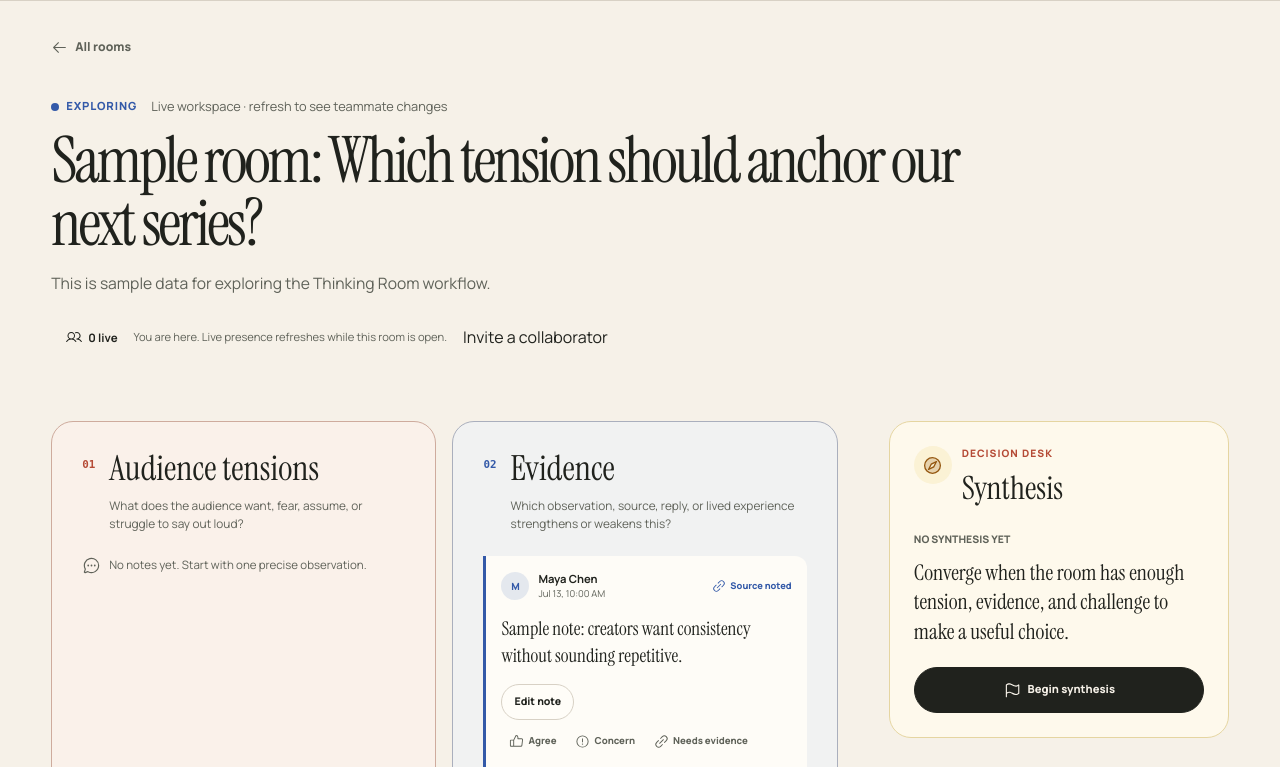
Test case: Thinking Room guided decision canvas › claims and edits only the actor's own live note through the dedicated route
This screenshot has width=1280, height=767.
Click the button "Edit note": (538, 702) [501, 684, 574, 720]
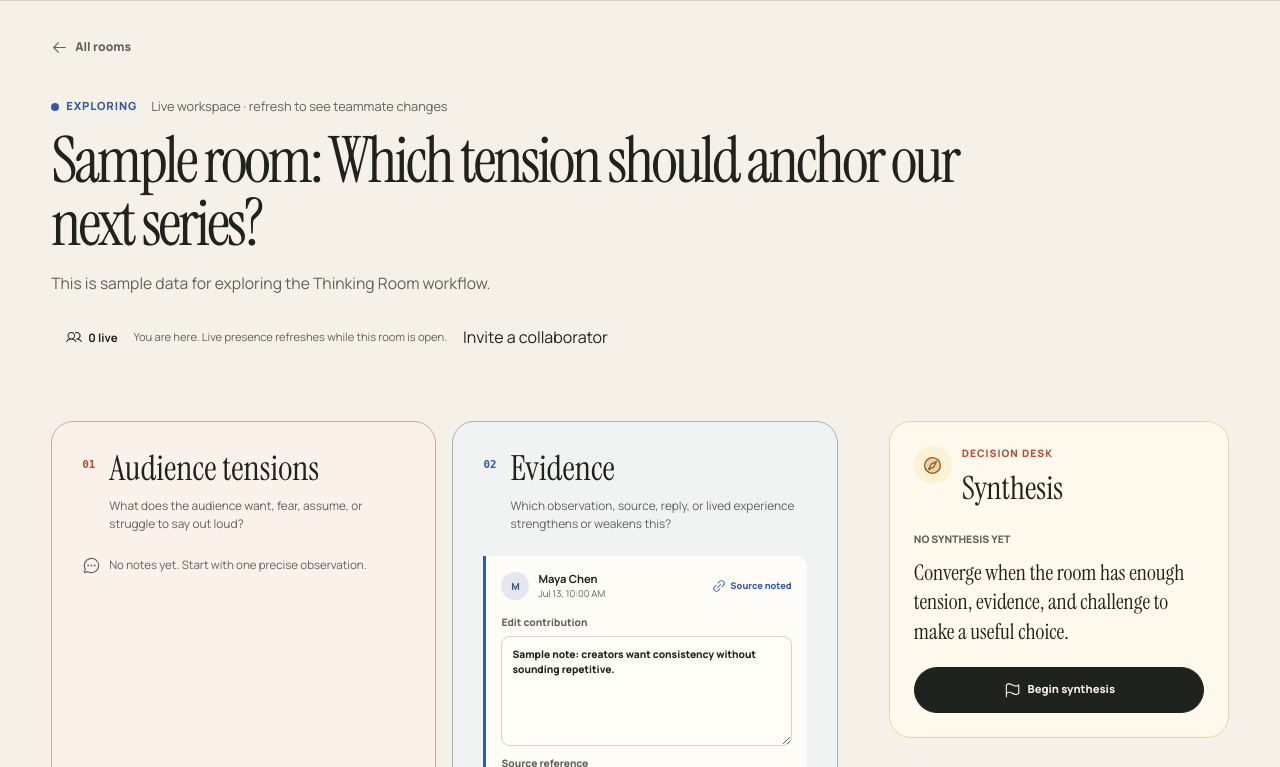
Replace the text in the text box labelled "Edit contribution" with "A revised note with durable history.": (646, 691) [501, 636, 792, 746]
(page scrolled)
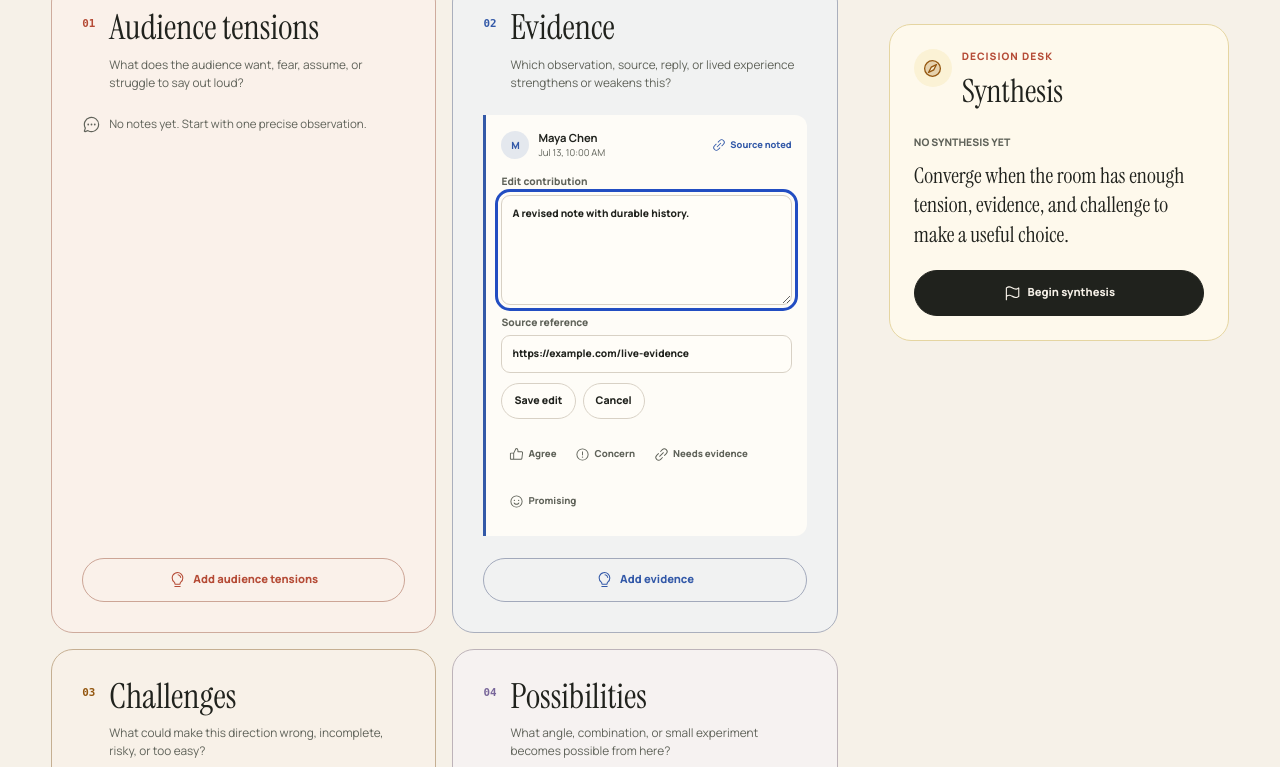
Click the button "Save edit": (538, 400) [501, 382, 576, 418]
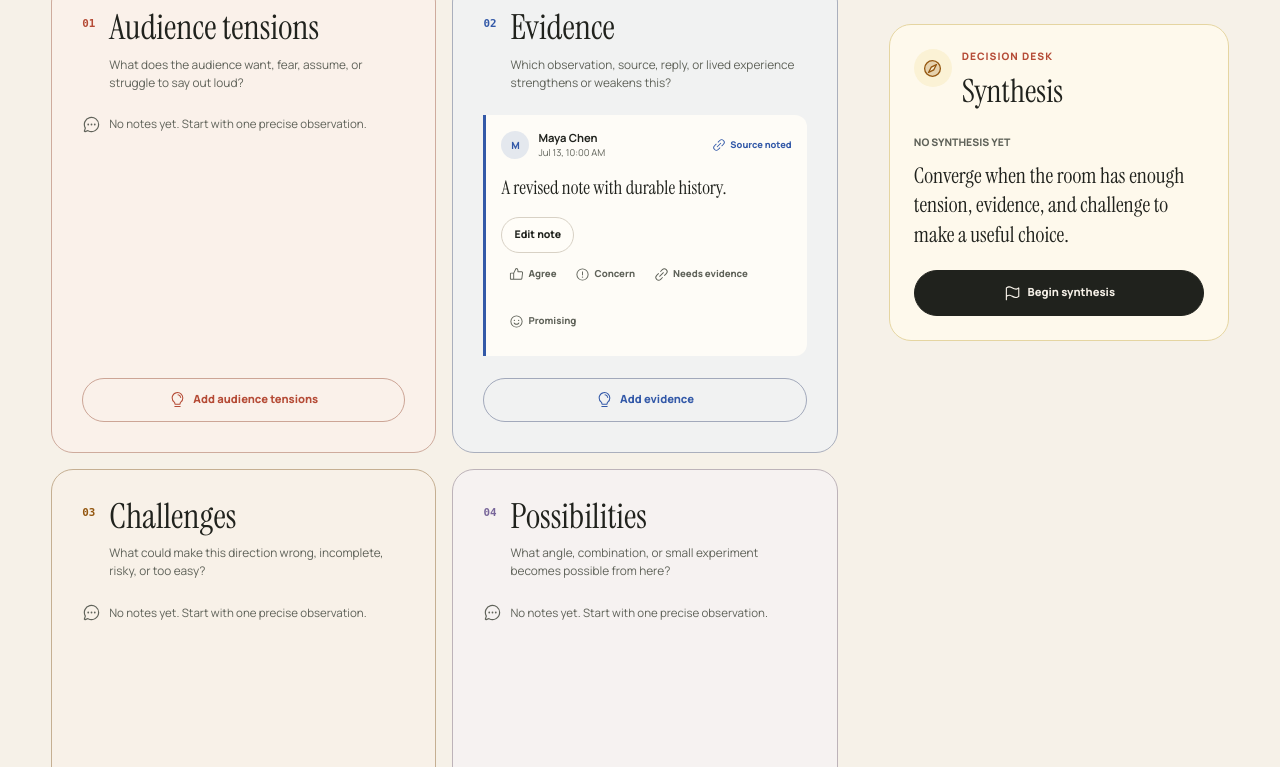
expect the text "A revised note with durable history." is shown: met, box [501, 176, 726, 200]
